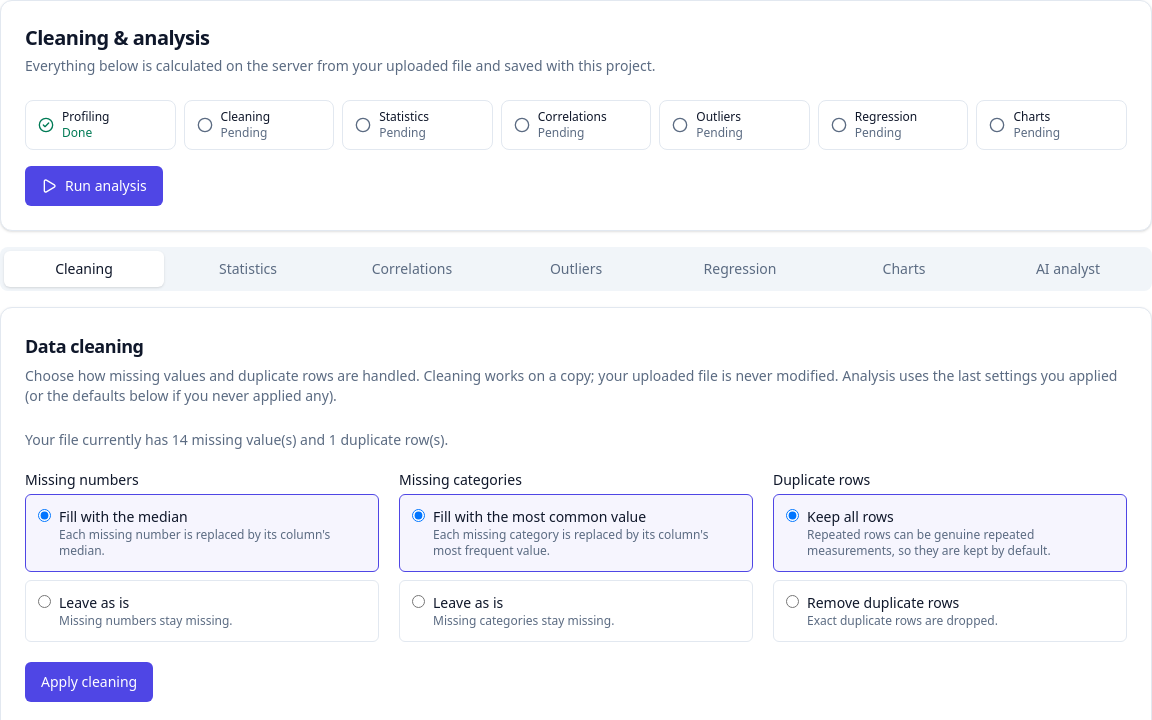
Test: AnalysisWorkspace — running the analysis › runs the analysis, then shows real statistics with nulls as dashes
Click the button "Run analysis" at (94, 186), box [25,166,163,206]
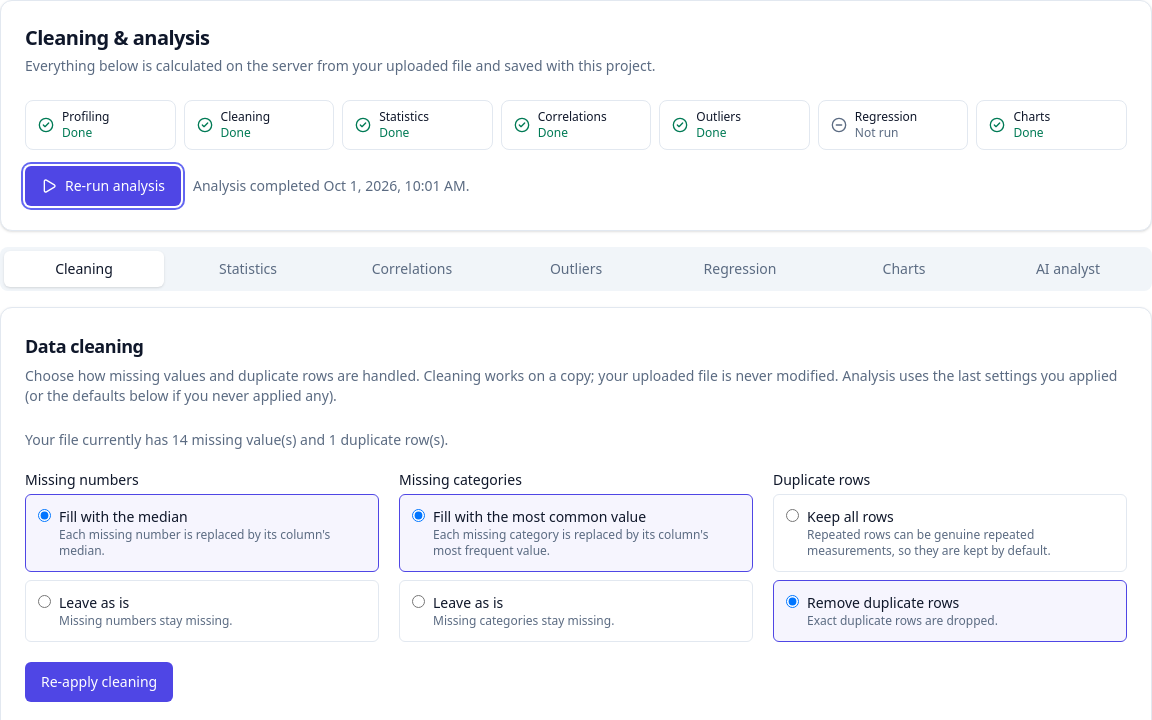
Now the button "Re-run analysis" is shown, box [25,166,181,206]
Now the text "Analysis completed Oct 1, 2026, 10:01 AM." is shown, box [193,176,470,196]
Click the tab "Statistics" at (248, 269), box [168,251,328,287]
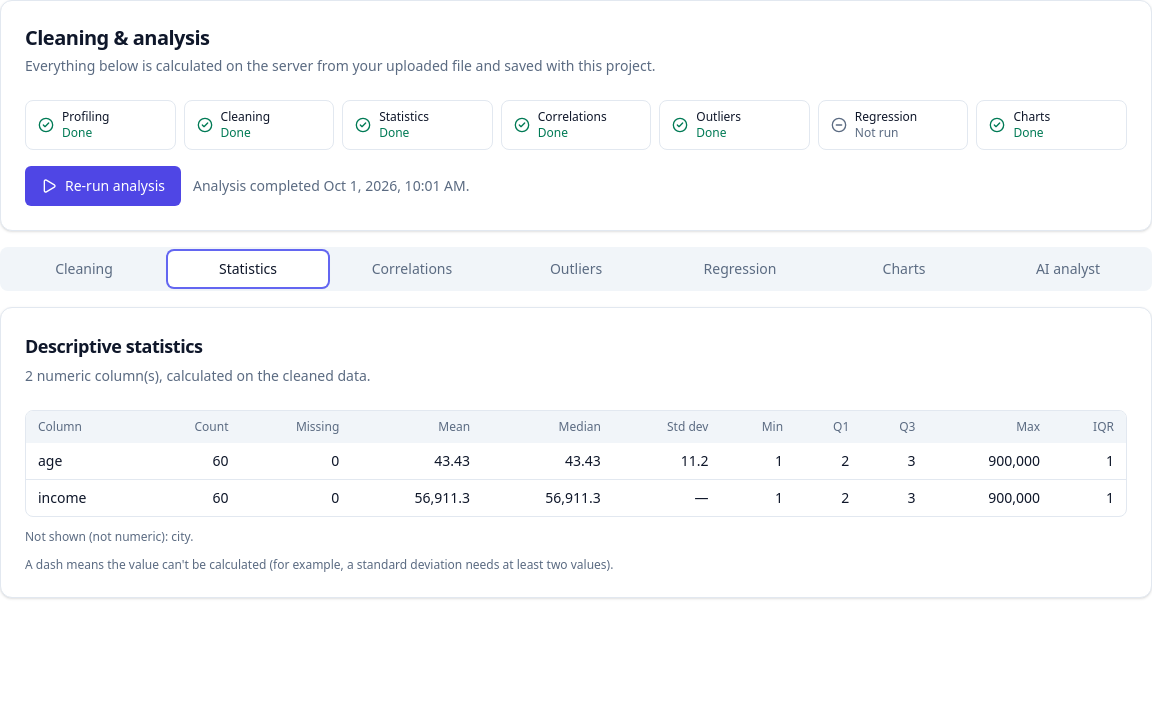
Now the row "income" shows "56,911.3", box [414,488,470,507]
Now the row "income" shows "—", box [694,488,708,507]
Now the text "Not shown (not numeric): city." is shown, box [25,528,193,545]
